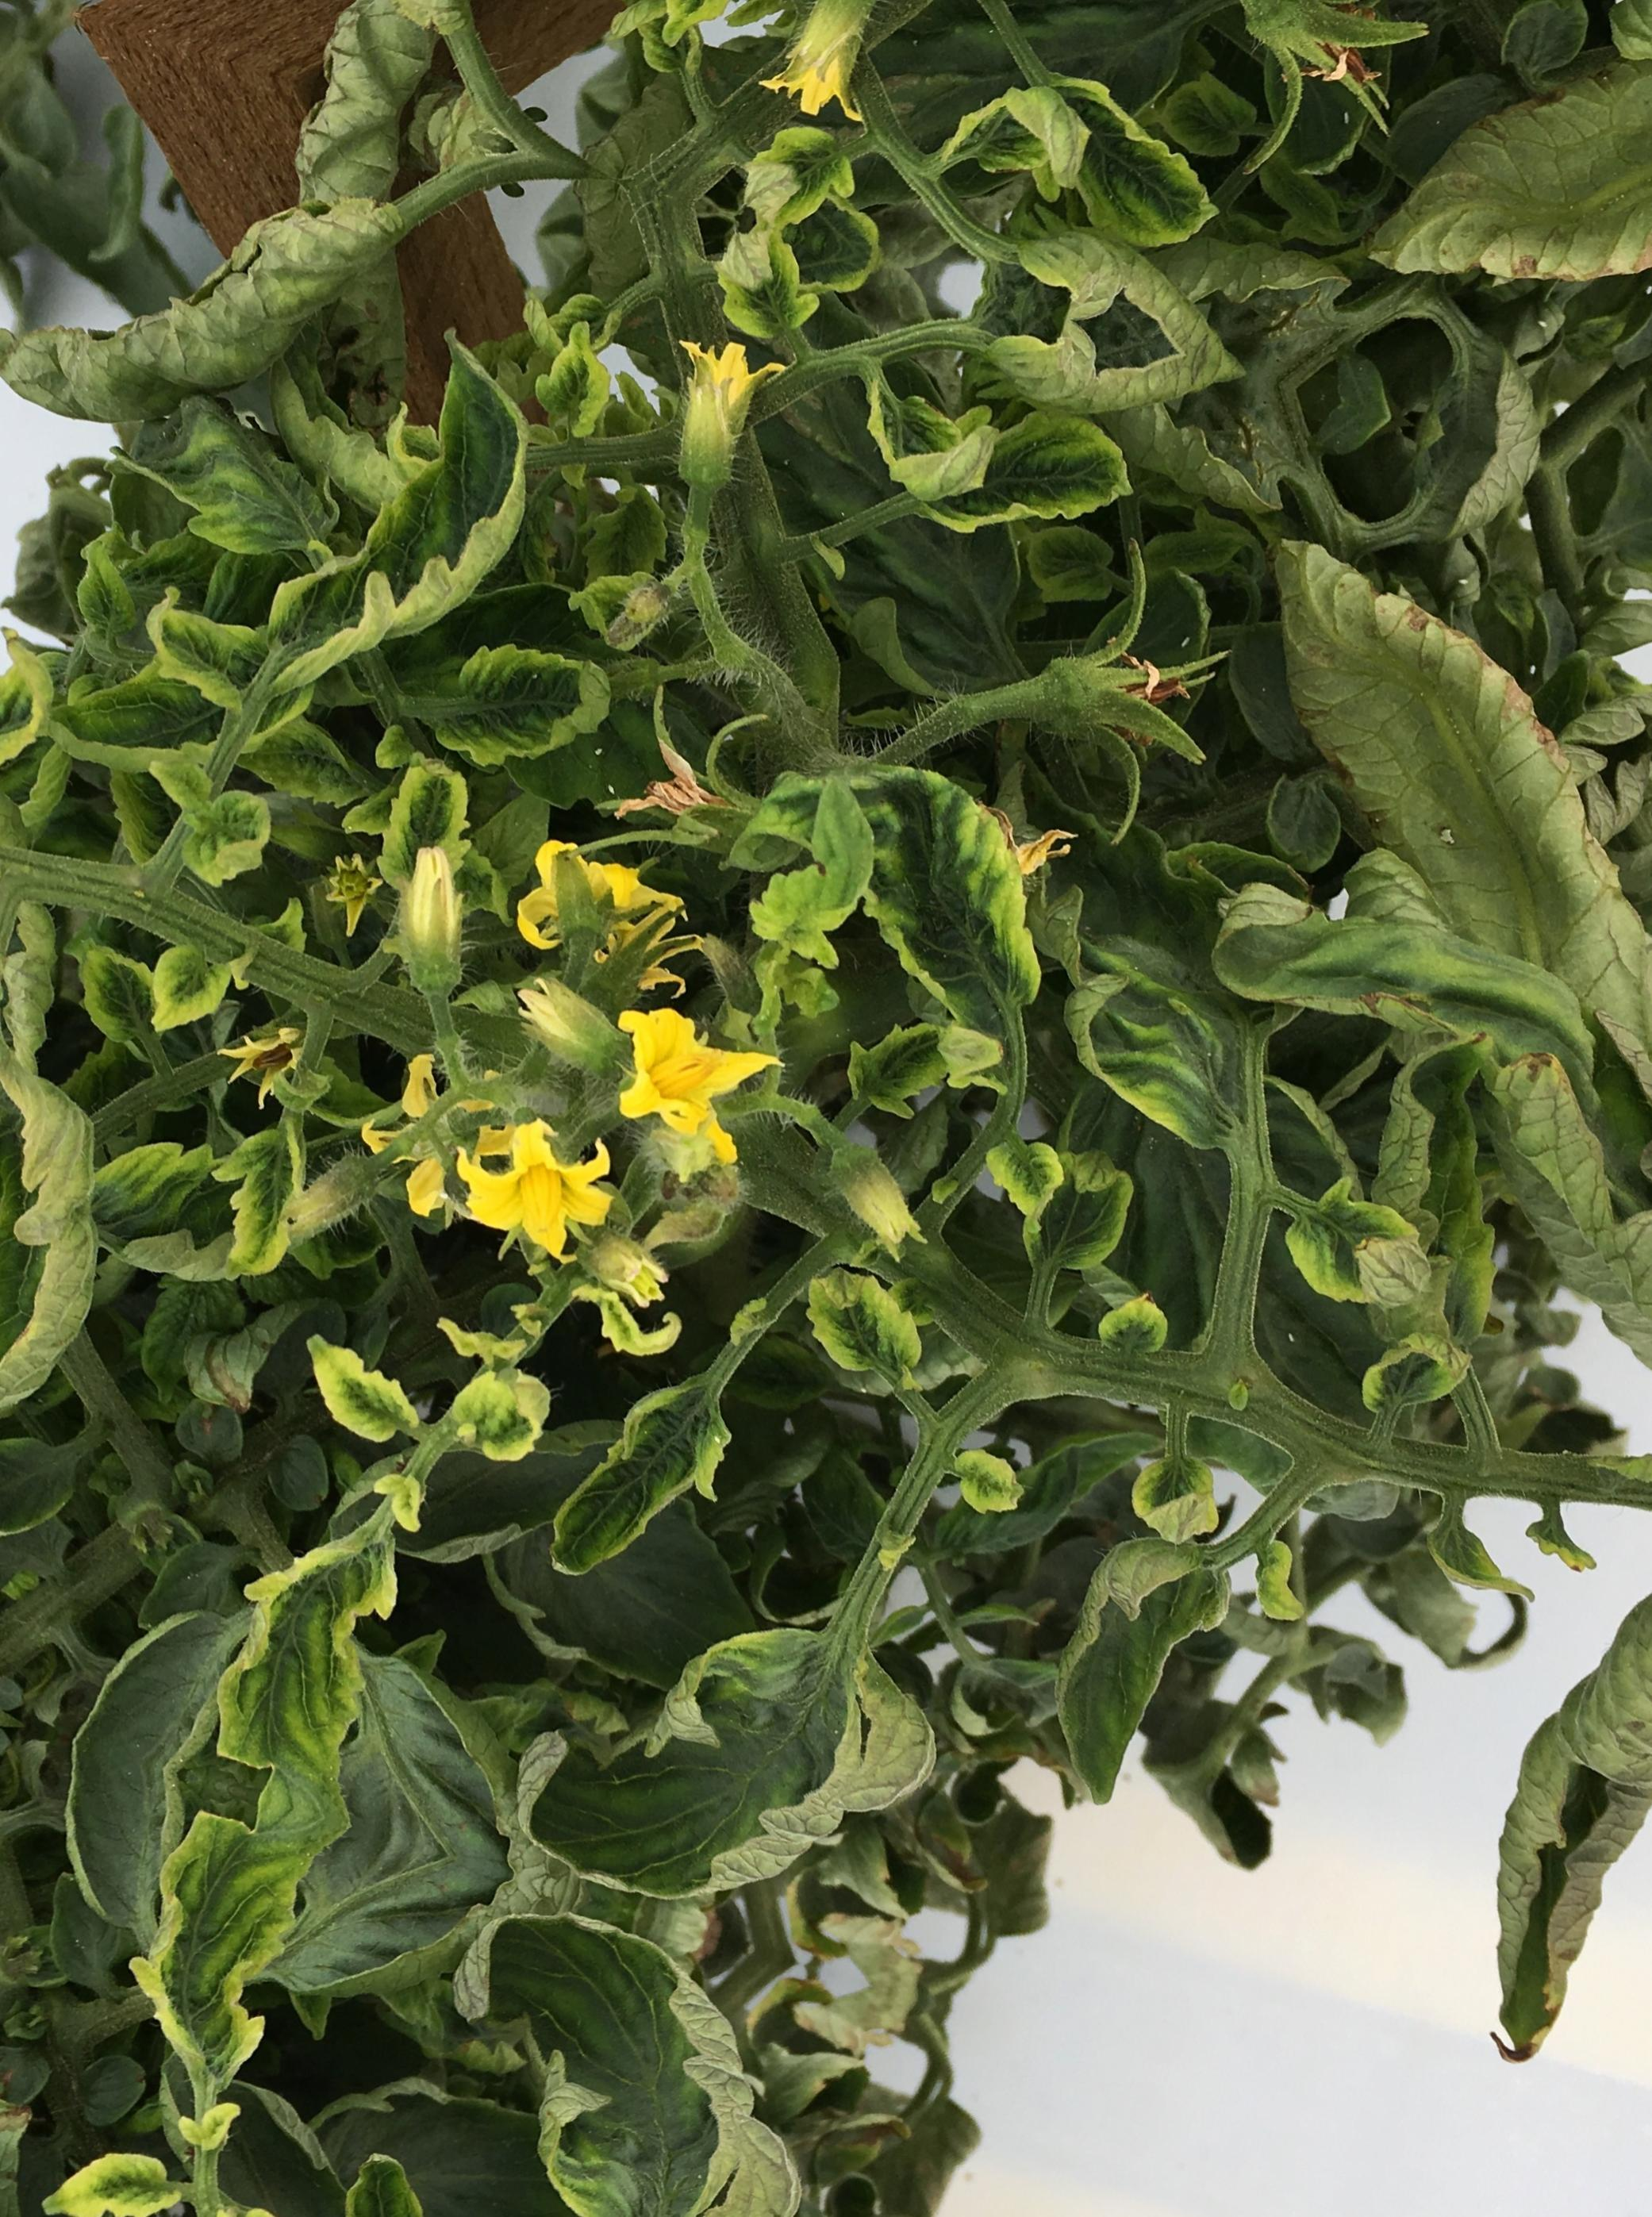Tomato leaf yellow virus: (451, 1520, 1017, 1993), (125, 267, 590, 798), (680, 689, 1123, 1095), (935, 789, 1322, 1192), (153, 1450, 536, 1854), (0, 904, 182, 1584), (824, 312, 1196, 595), (396, 583, 632, 808)
